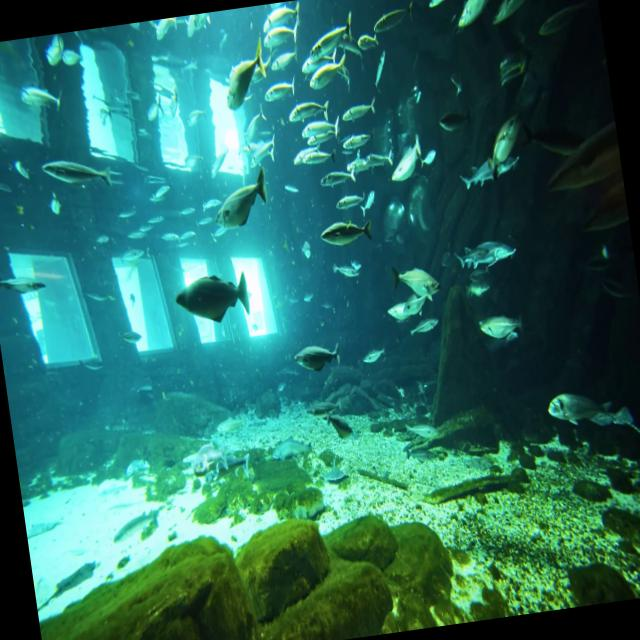fish: (166, 257, 256, 336), (203, 159, 276, 244), (434, 217, 530, 281), (521, 378, 614, 438), (372, 244, 454, 306), (36, 142, 115, 202), (312, 201, 382, 263), (213, 44, 274, 114), (375, 119, 429, 194), (0, 247, 51, 307), (446, 0, 515, 39), (298, 100, 346, 154), (4, 70, 62, 114), (450, 146, 500, 197), (471, 302, 522, 348), (483, 0, 558, 31), (289, 138, 341, 174), (380, 292, 428, 330), (337, 87, 379, 130), (313, 45, 358, 85), (258, 4, 307, 38), (410, 0, 466, 16)
